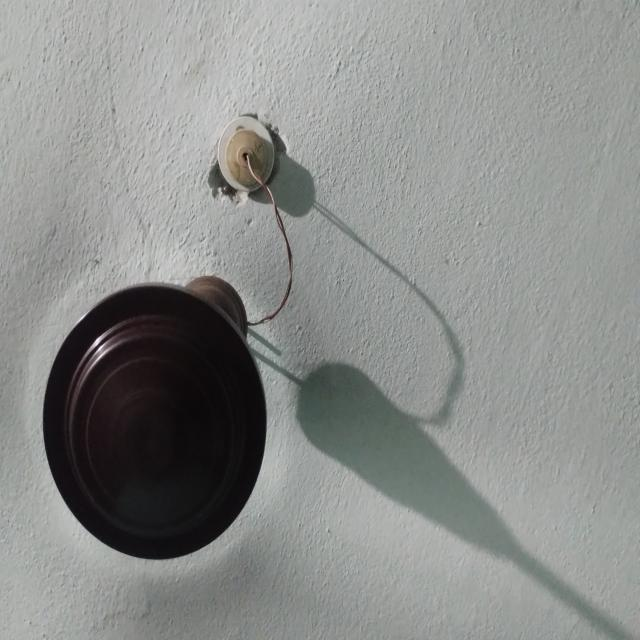fan_on: (8, 216, 367, 640)
